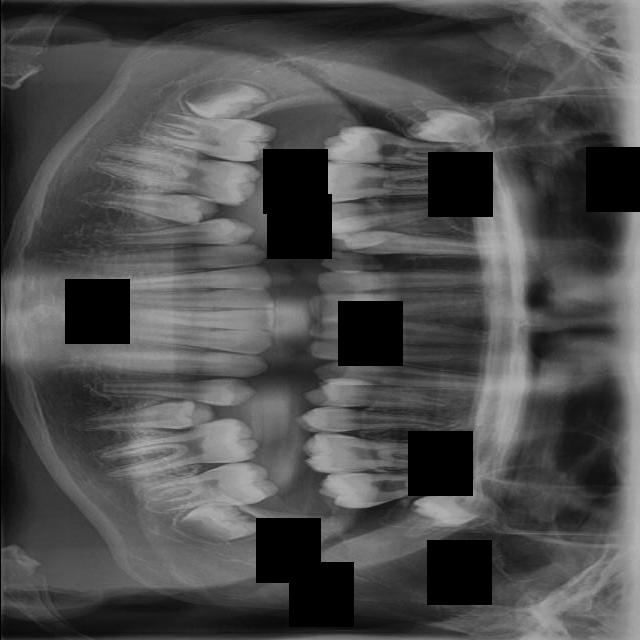Sterngold Implant: (328, 341, 355, 353), (339, 249, 357, 257), (243, 137, 257, 146)
